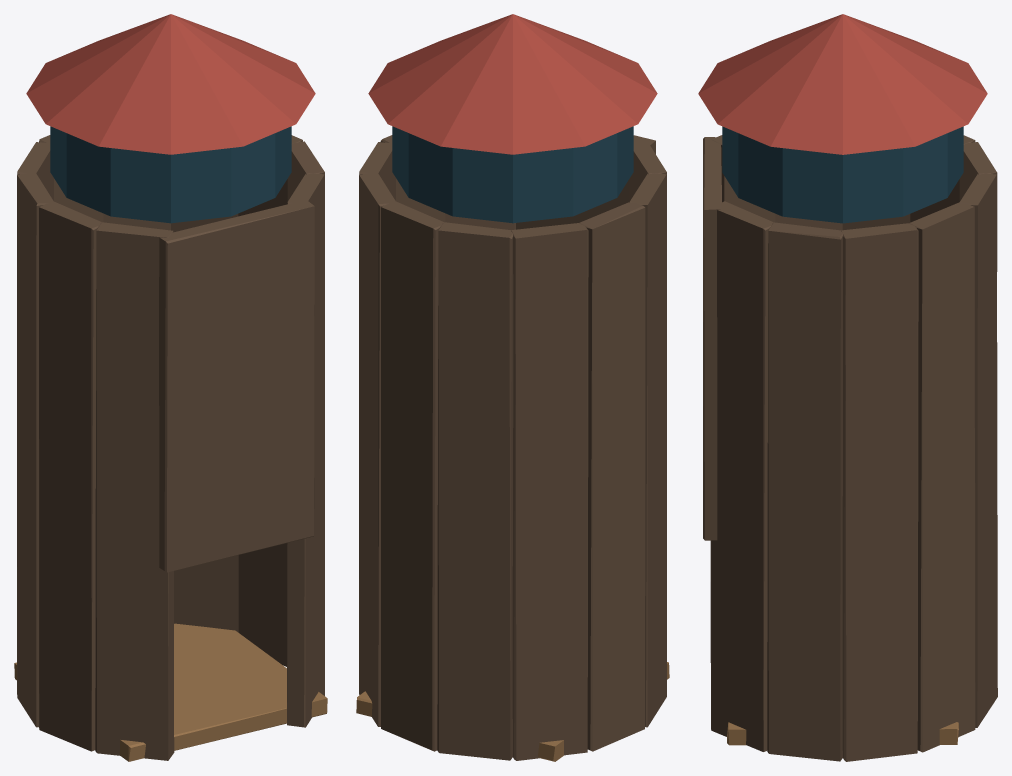
File: harbor-watchtower.lod1.glb
3 renders of one model, left to right at view 1: azimuth 30°, elevation 25°; view 2: azimuth 150°, elevation 25°; view 3: azimuth 270°, elevation 25°, orthographic.
Visible parts, largest first — view 1: harbor-watchtower__body, harbor-watchtower__front-wall, harbor-watchtower__roof; view 2: harbor-watchtower__body, harbor-watchtower__roof, harbor-watchtower__front-wall; view 3: harbor-watchtower__body, harbor-watchtower__roof, harbor-watchtower__front-wall.
Part boxes in pixels (<box>): harbor-watchtower__body: <box>14,126,327,761</box>; harbor-watchtower__front-wall: <box>159,199,314,572</box>; harbor-watchtower__roof: <box>26,14,315,154</box>; harbor-watchtower__body: <box>356,126,669,761</box>; harbor-watchtower__roof: <box>368,14,657,154</box>; harbor-watchtower__front-wall: <box>516,135,655,229</box>; harbor-watchtower__body: <box>710,126,997,761</box>; harbor-watchtower__roof: <box>698,14,987,154</box>; harbor-watchtower__front-wall: <box>703,137,721,540</box>.
Bounding box in the file's own units: 3.2 × 7.8 × 3.1.
